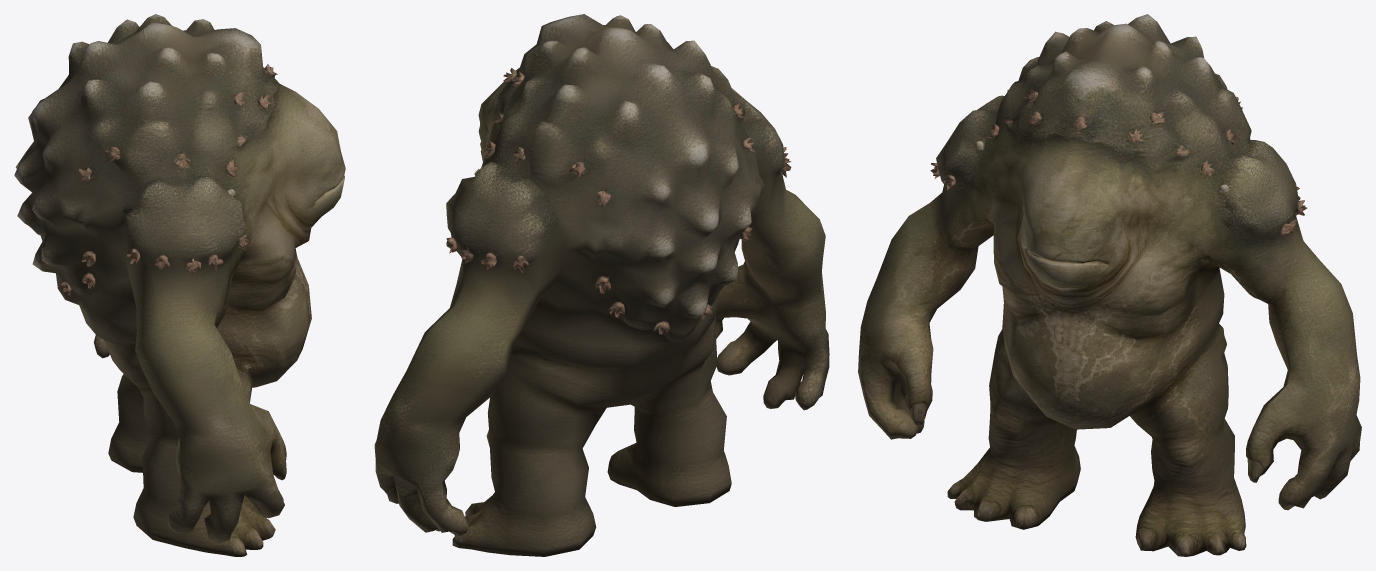
Rendered from model_url.glb.
3 renders of one model, left to right at view 1: azimuth 30°, elevation 25°; view 2: azimuth 150°, elevation 25°; view 3: azimuth 270°, elevation 25°, orthographic. The views are drawn at different scales.
Parts seen in each view (by area): view 1: tripo_node_05393d5d-0adb-4df6-ac2a-4f02c29c15f8; view 2: tripo_node_05393d5d-0adb-4df6-ac2a-4f02c29c15f8; view 3: tripo_node_05393d5d-0adb-4df6-ac2a-4f02c29c15f8.
Boxes of the visible parts, <box> form: tripo_node_05393d5d-0adb-4df6-ac2a-4f02c29c15f8: <box>14,14,345,556</box>; tripo_node_05393d5d-0adb-4df6-ac2a-4f02c29c15f8: <box>374,14,829,556</box>; tripo_node_05393d5d-0adb-4df6-ac2a-4f02c29c15f8: <box>858,14,1361,556</box>.
Size of the model in its own units: 0.6196 by 0.998 by 0.9557.
Materials: 1 (1 with a texture image).
